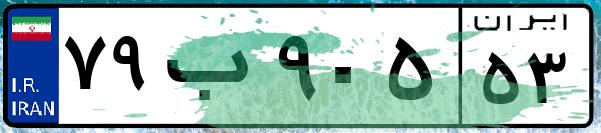0: (330, 28, 385, 110)
3: (525, 38, 570, 115)
5: (385, 28, 445, 110), (475, 38, 525, 113)
7: (57, 26, 110, 100)
9: (270, 28, 330, 110), (110, 28, 158, 98)
ب: (158, 20, 270, 120)
